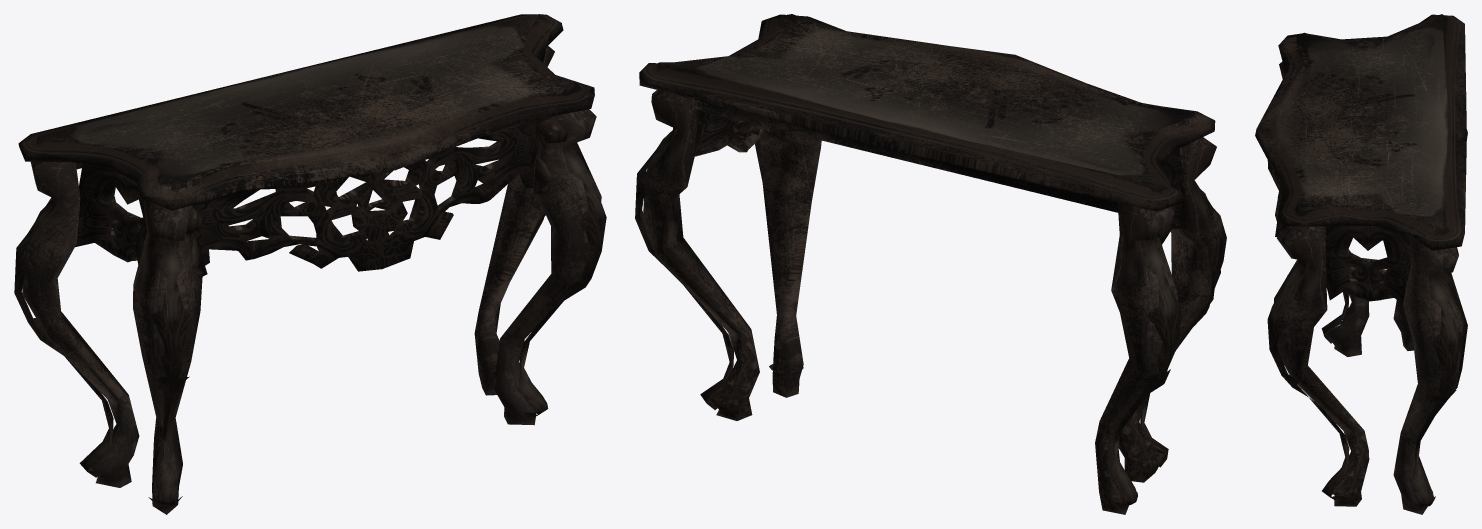
File: ClassicConsoleLOD1.fbx
3 renders of one model, left to right at view 1: azimuth 30°, elevation 25°; view 2: azimuth 150°, elevation 25°; view 3: azimuth 270°, elevation 25°, orthographic. The views are drawn at different scales.
Parts seen in each view (by area): view 1: ClassicConsole_01; view 2: ClassicConsole_01; view 3: ClassicConsole_01.
Boxes of the visible parts, x1,y1,x2,y2 form: ClassicConsole_01: [14, 14, 606, 514]; ClassicConsole_01: [635, 14, 1226, 514]; ClassicConsole_01: [1255, 14, 1467, 514].
Bounding box in the file's own units: 154 × 95.01 × 59.79.
